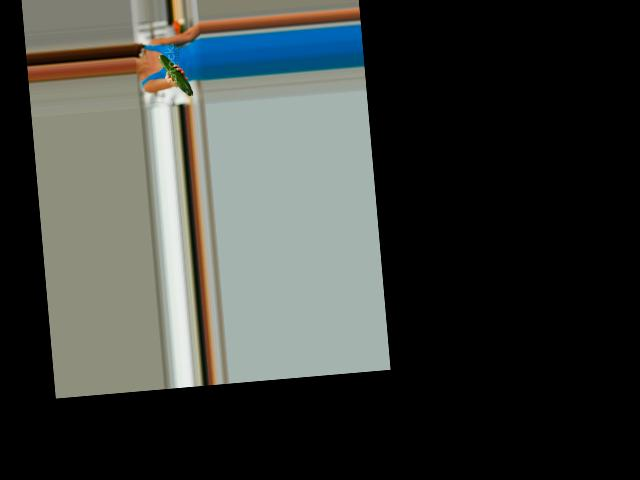cucumber: (159, 52, 193, 97)
